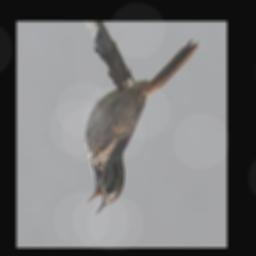Sparrow: (86, 37, 200, 217)
